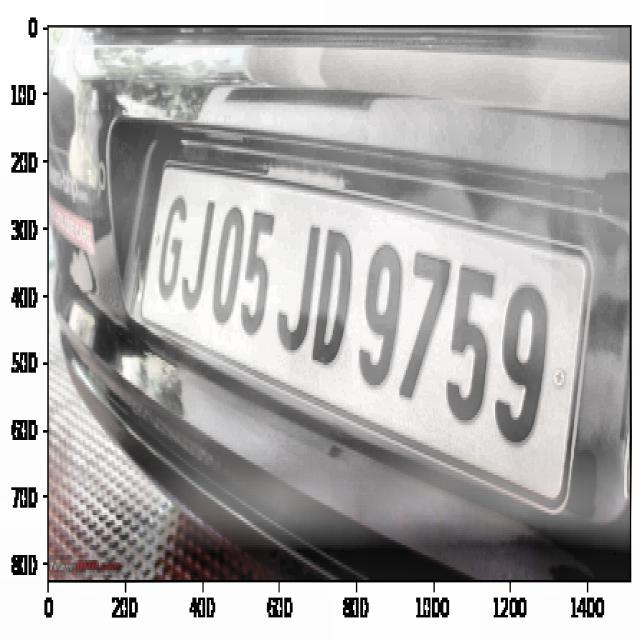license_plate: (148, 177, 553, 462)
